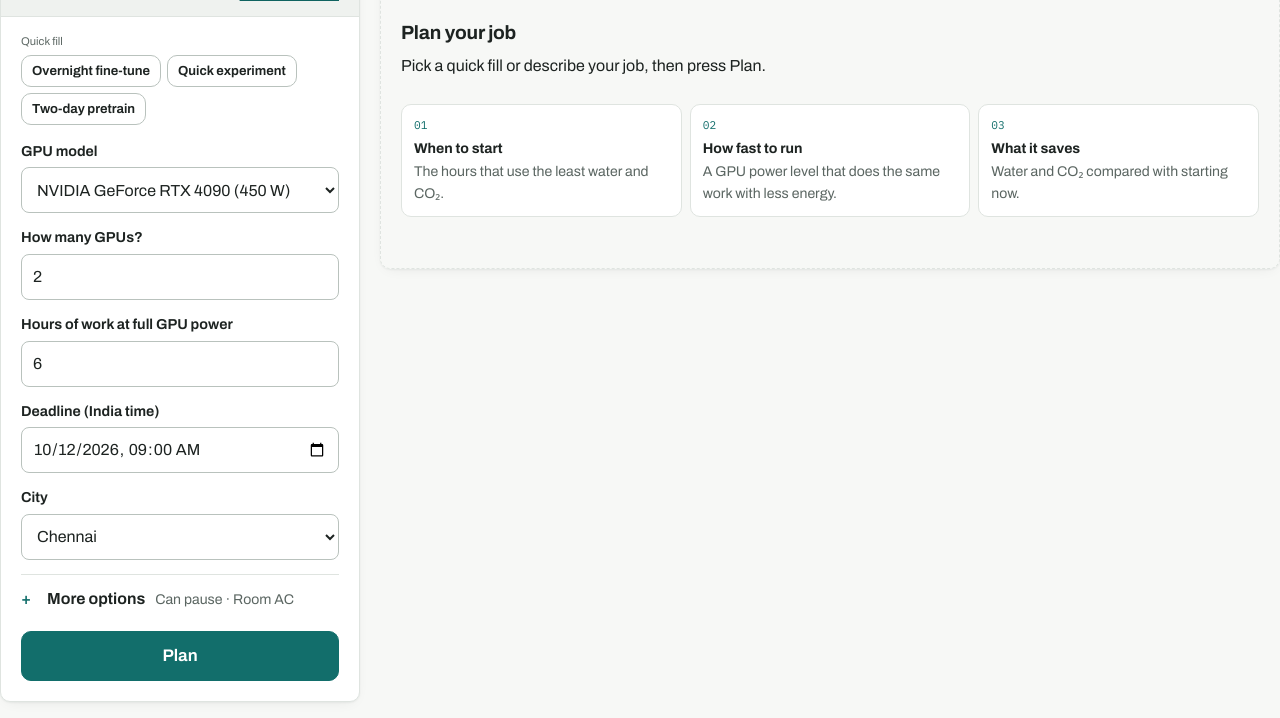
PlanPage with a plan › warns when the forecast is old
This screenshot has width=1280, height=718.
(page scrolled)
Click the button "Plan". click: (180, 656)
box: top-left (21, 631), bottom-right (339, 681)
(page scrolled)
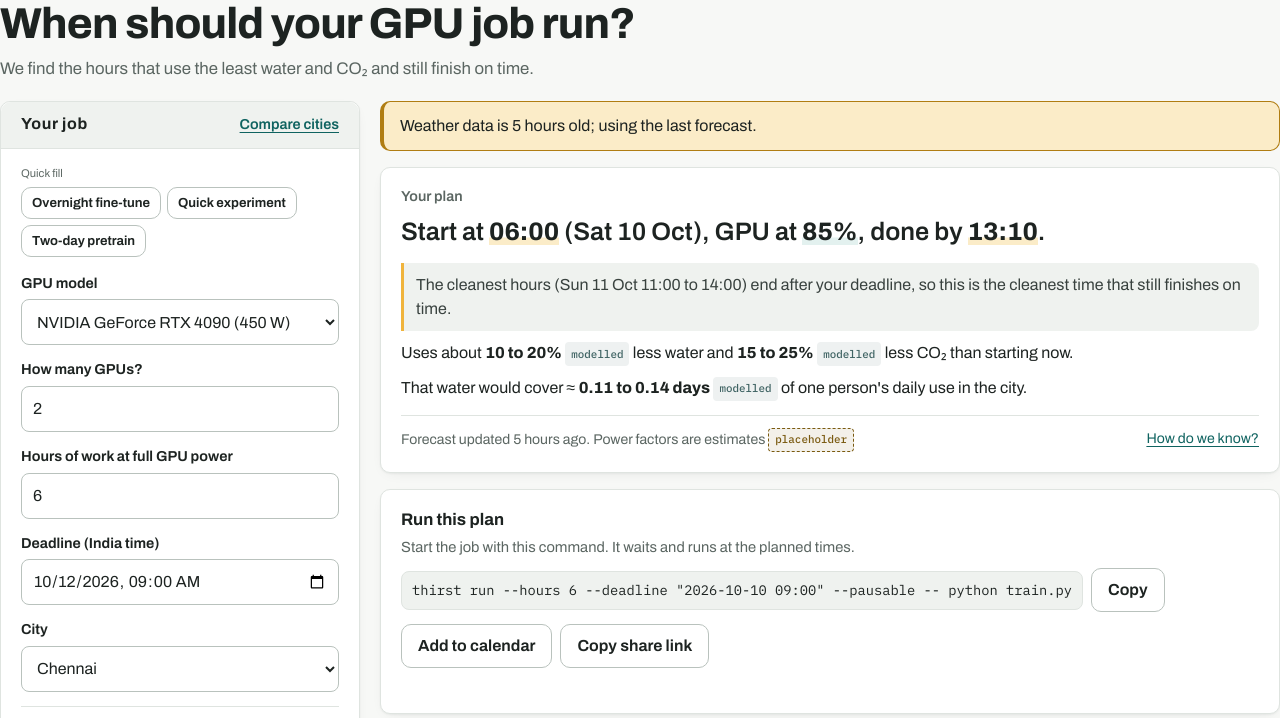
expect the element "Your plan" is shown: met, box top-left (380, 167), bottom-right (1279, 473)
expect the text "Weather data is 5 hours old; using the last forecast." is shown: met, box top-left (380, 101), bottom-right (1279, 151)
